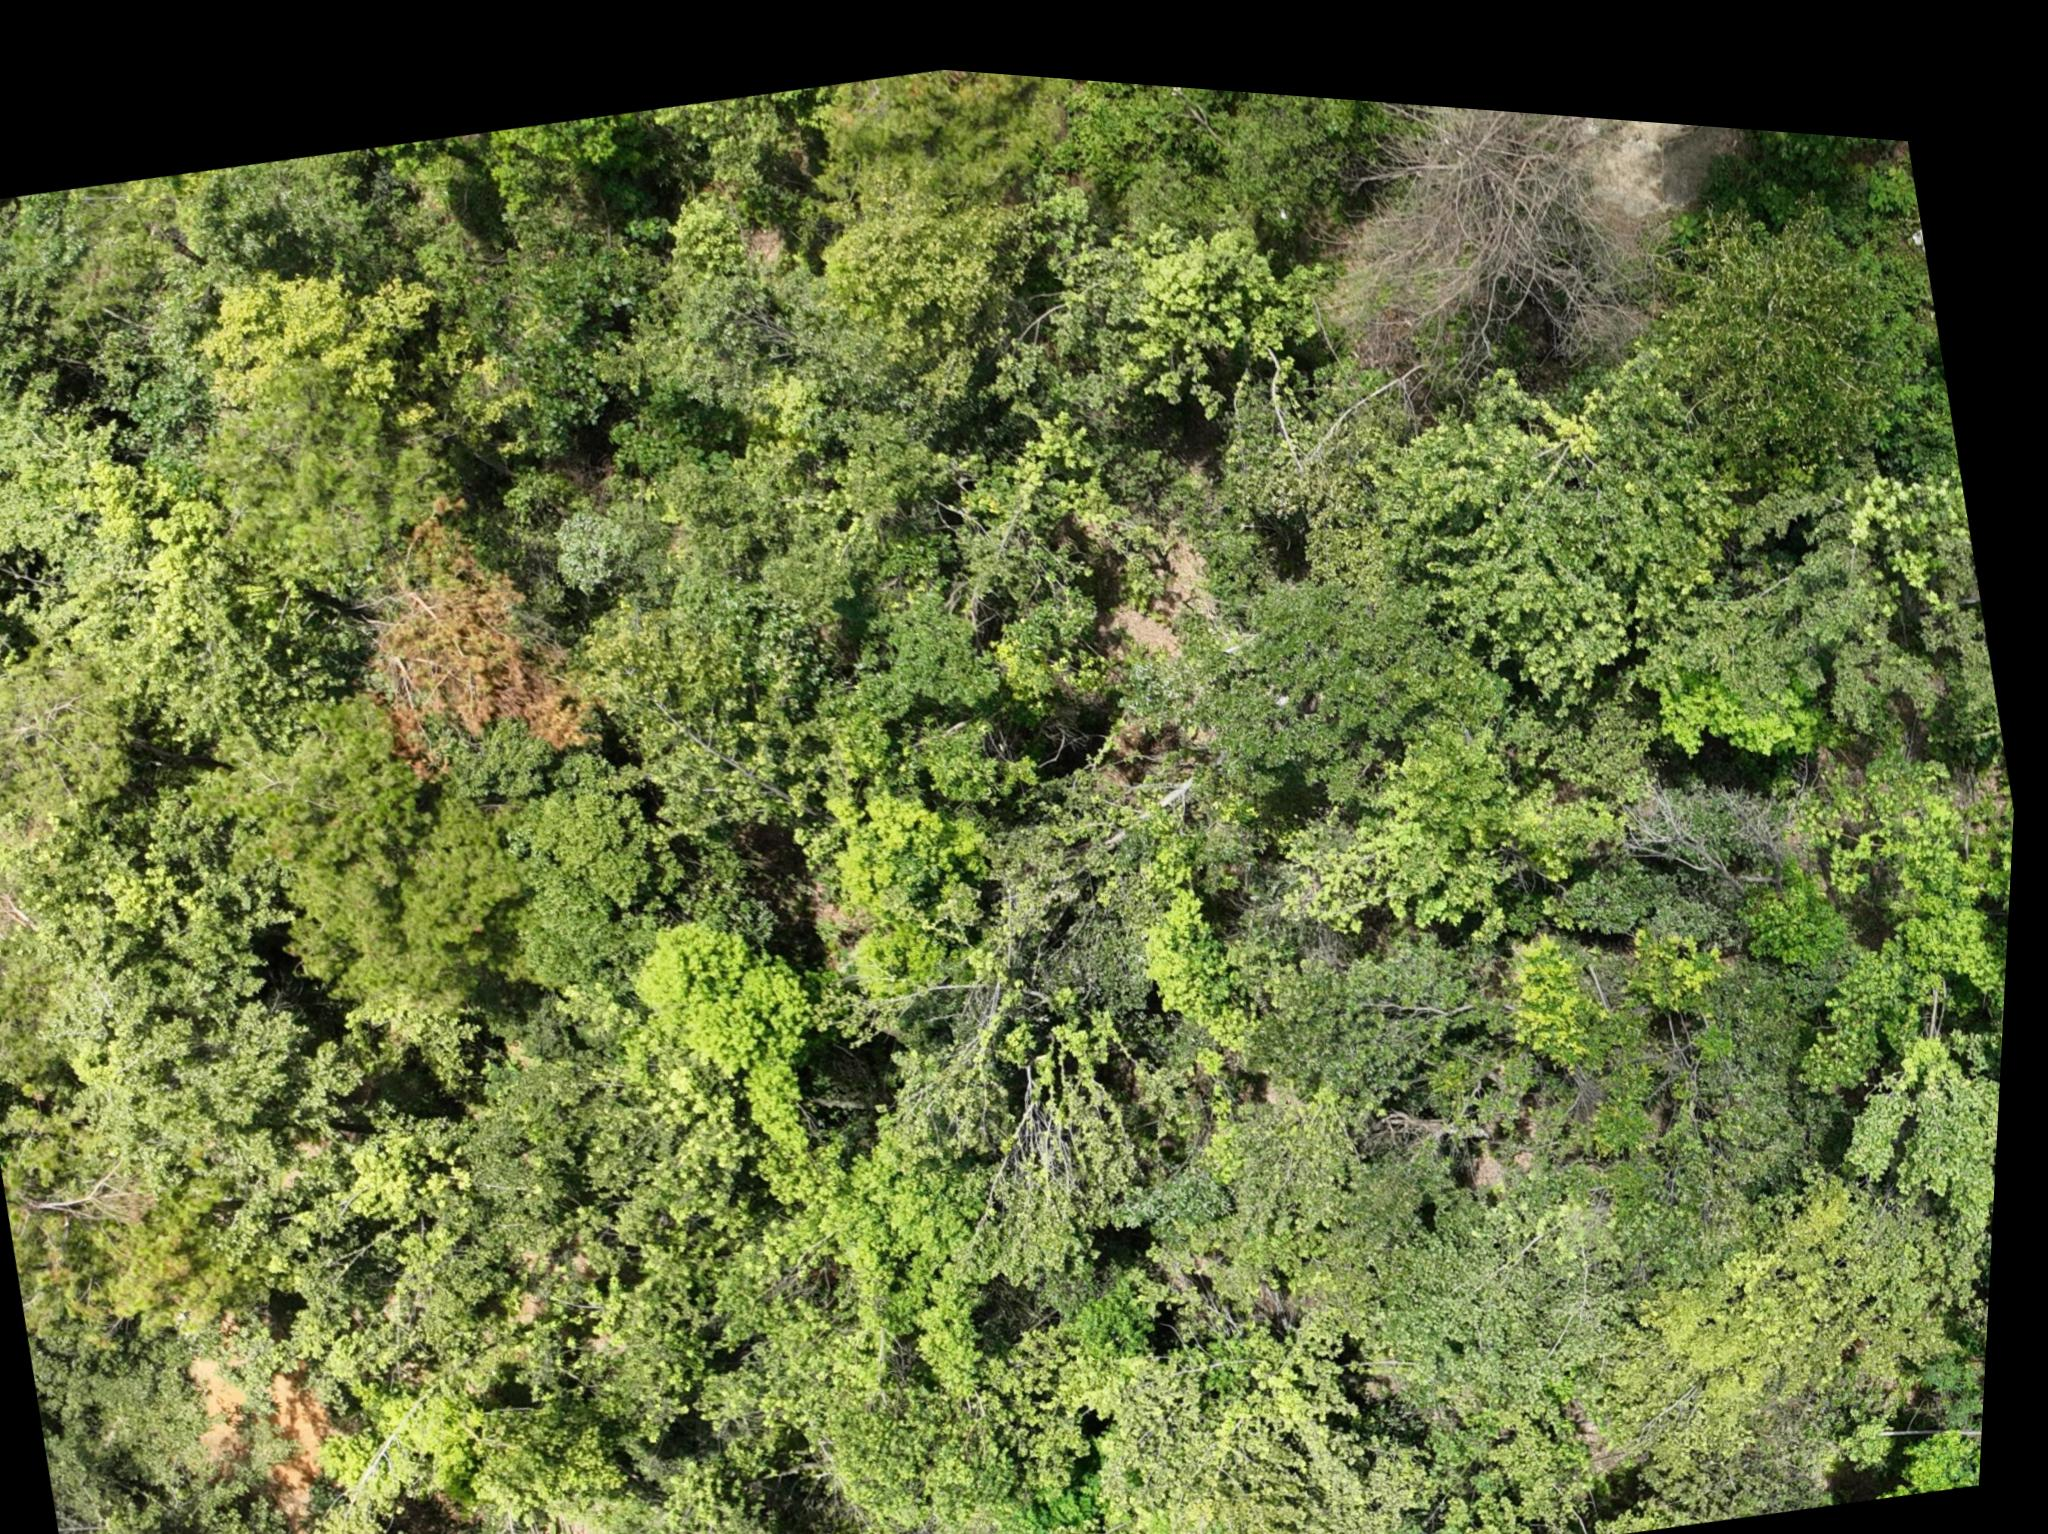dead: (1305, 77, 1669, 372)
heavy: (325, 453, 624, 794)
